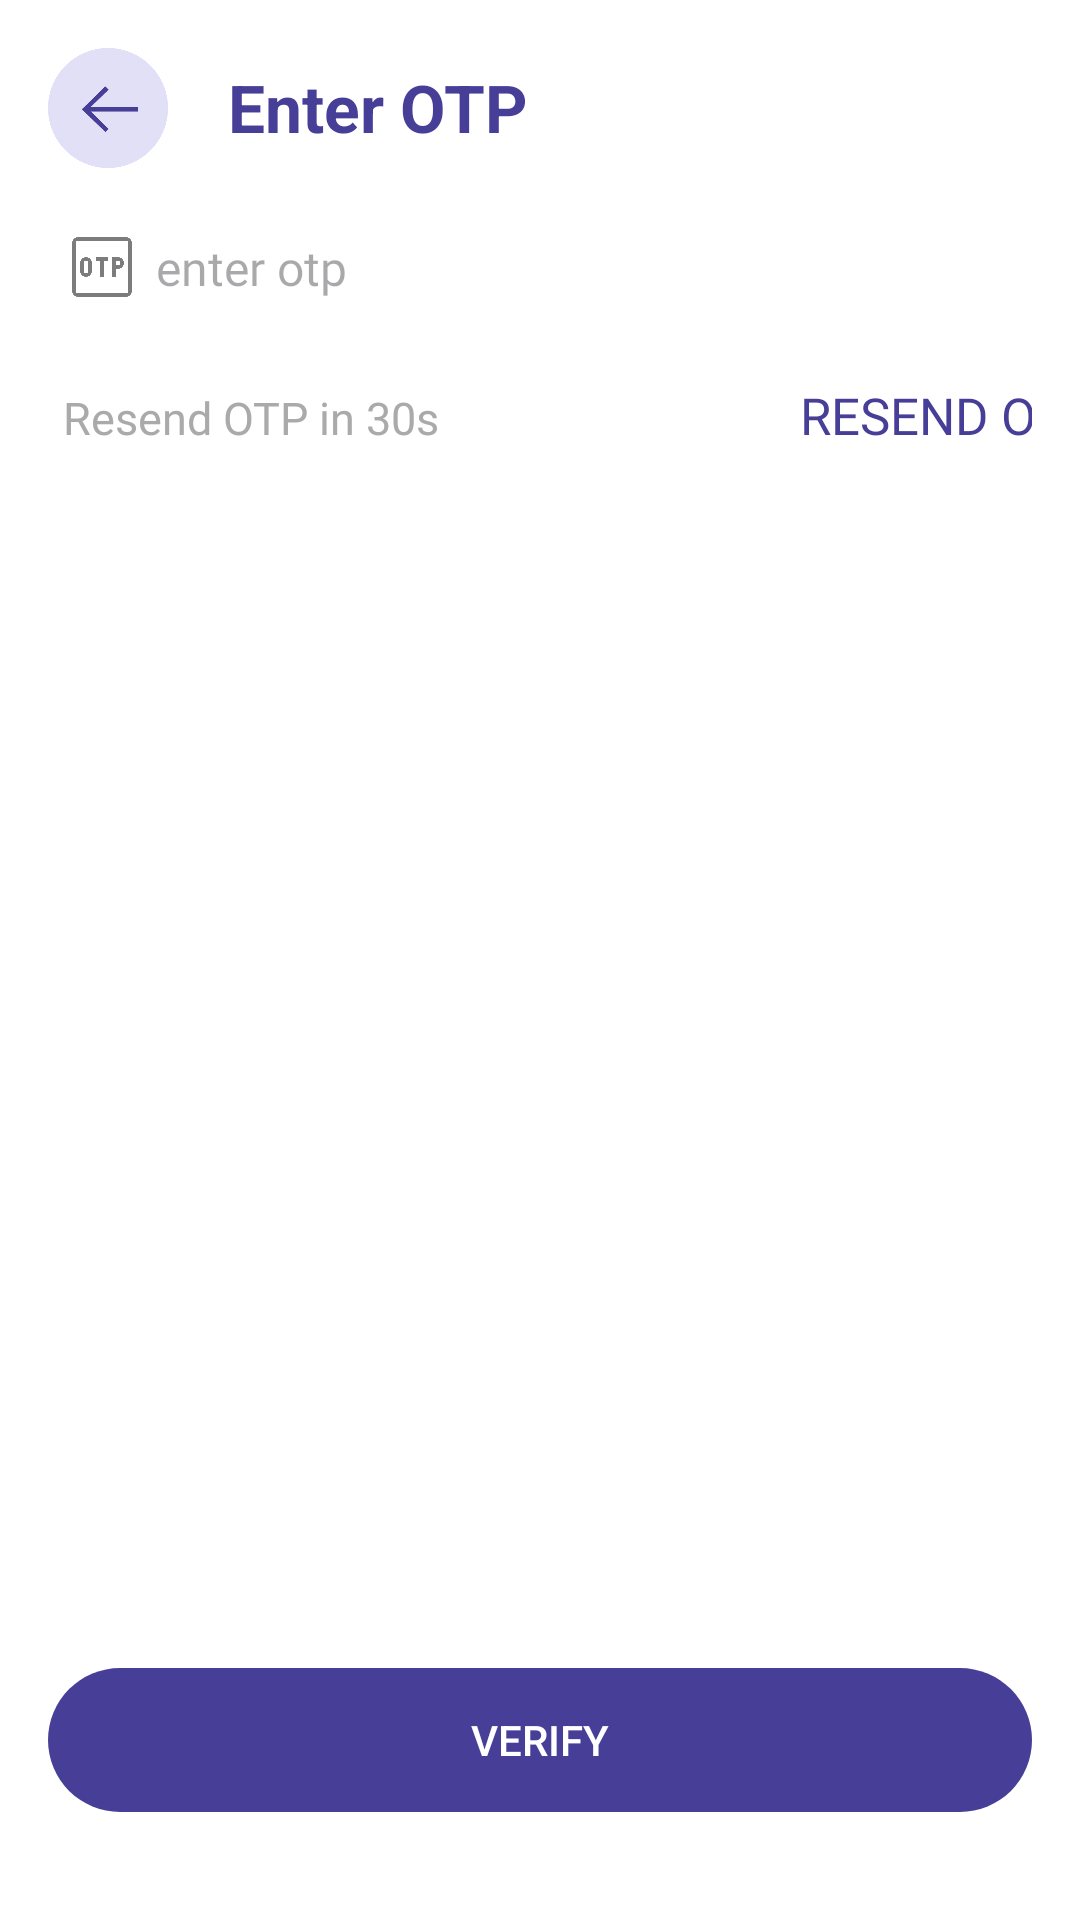

Screen size 1080px×1920px. Icon name, then its center in pixels as (x,y):
Back Button: (108,108)
